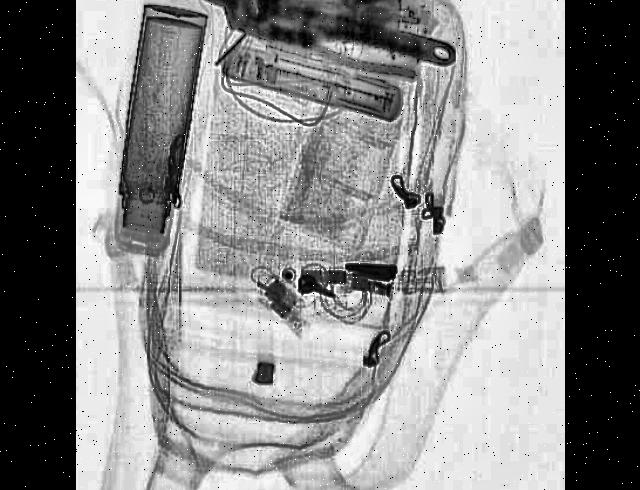Wrench: (184, 0, 460, 94)
